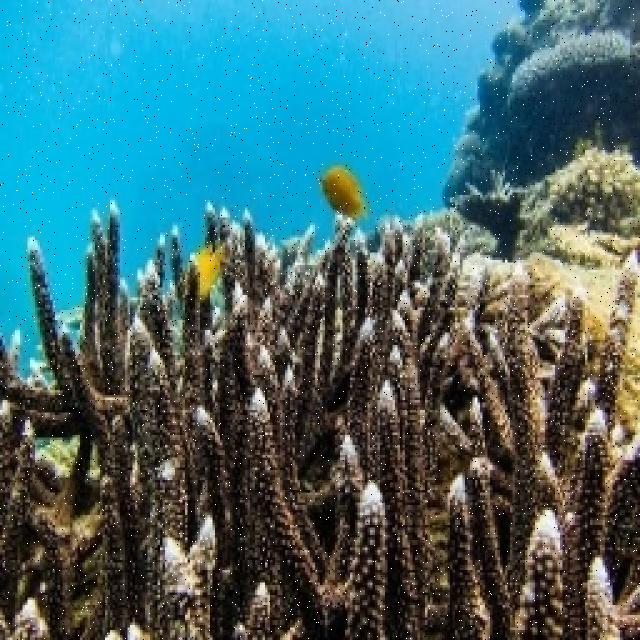fish: (320, 165, 370, 216), (199, 242, 229, 295), (283, 236, 301, 259)
reefs: (0, 201, 638, 638), (445, 2, 638, 204)
